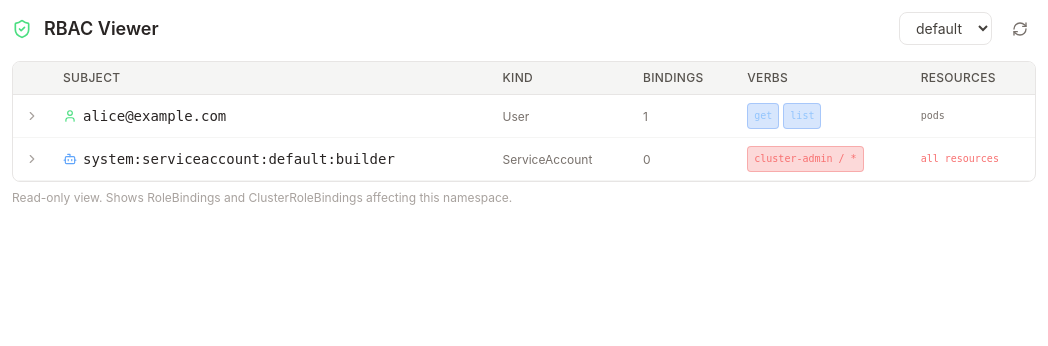
Test: RBACView › expands a row to show bindings and rules on click
This screenshot has width=1048, height=346.
Click the text "alice@example.com".
click(155, 116)  # box [83,106,226,126]
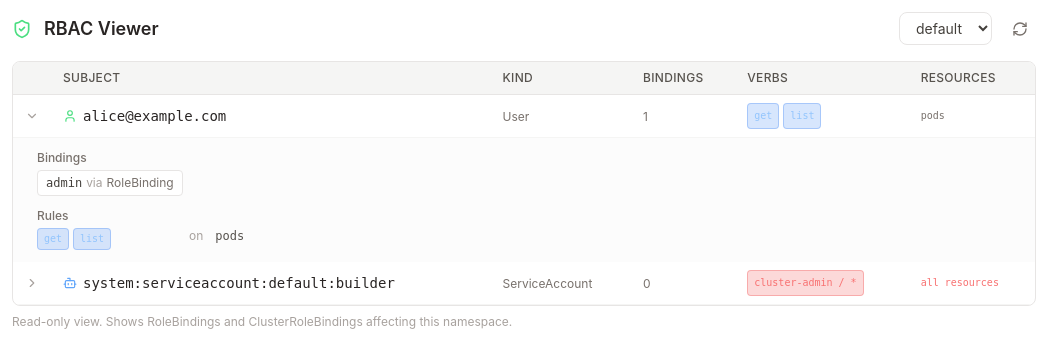
Expected: the heading "Bindings" is shown, [37,150,87,165]
Expected: the text "admin" is shown, [46,175,82,191]
